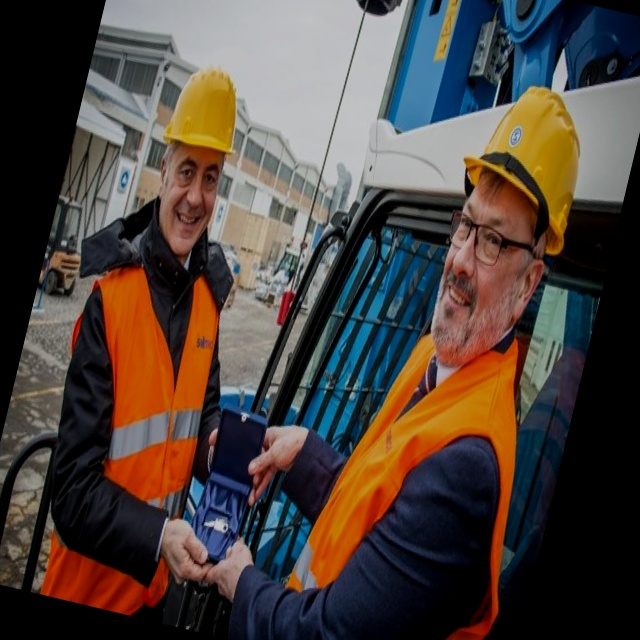Con_Casco: (425, 72, 600, 363), (143, 63, 253, 252)
Con_Chaleco: (24, 247, 247, 613)
